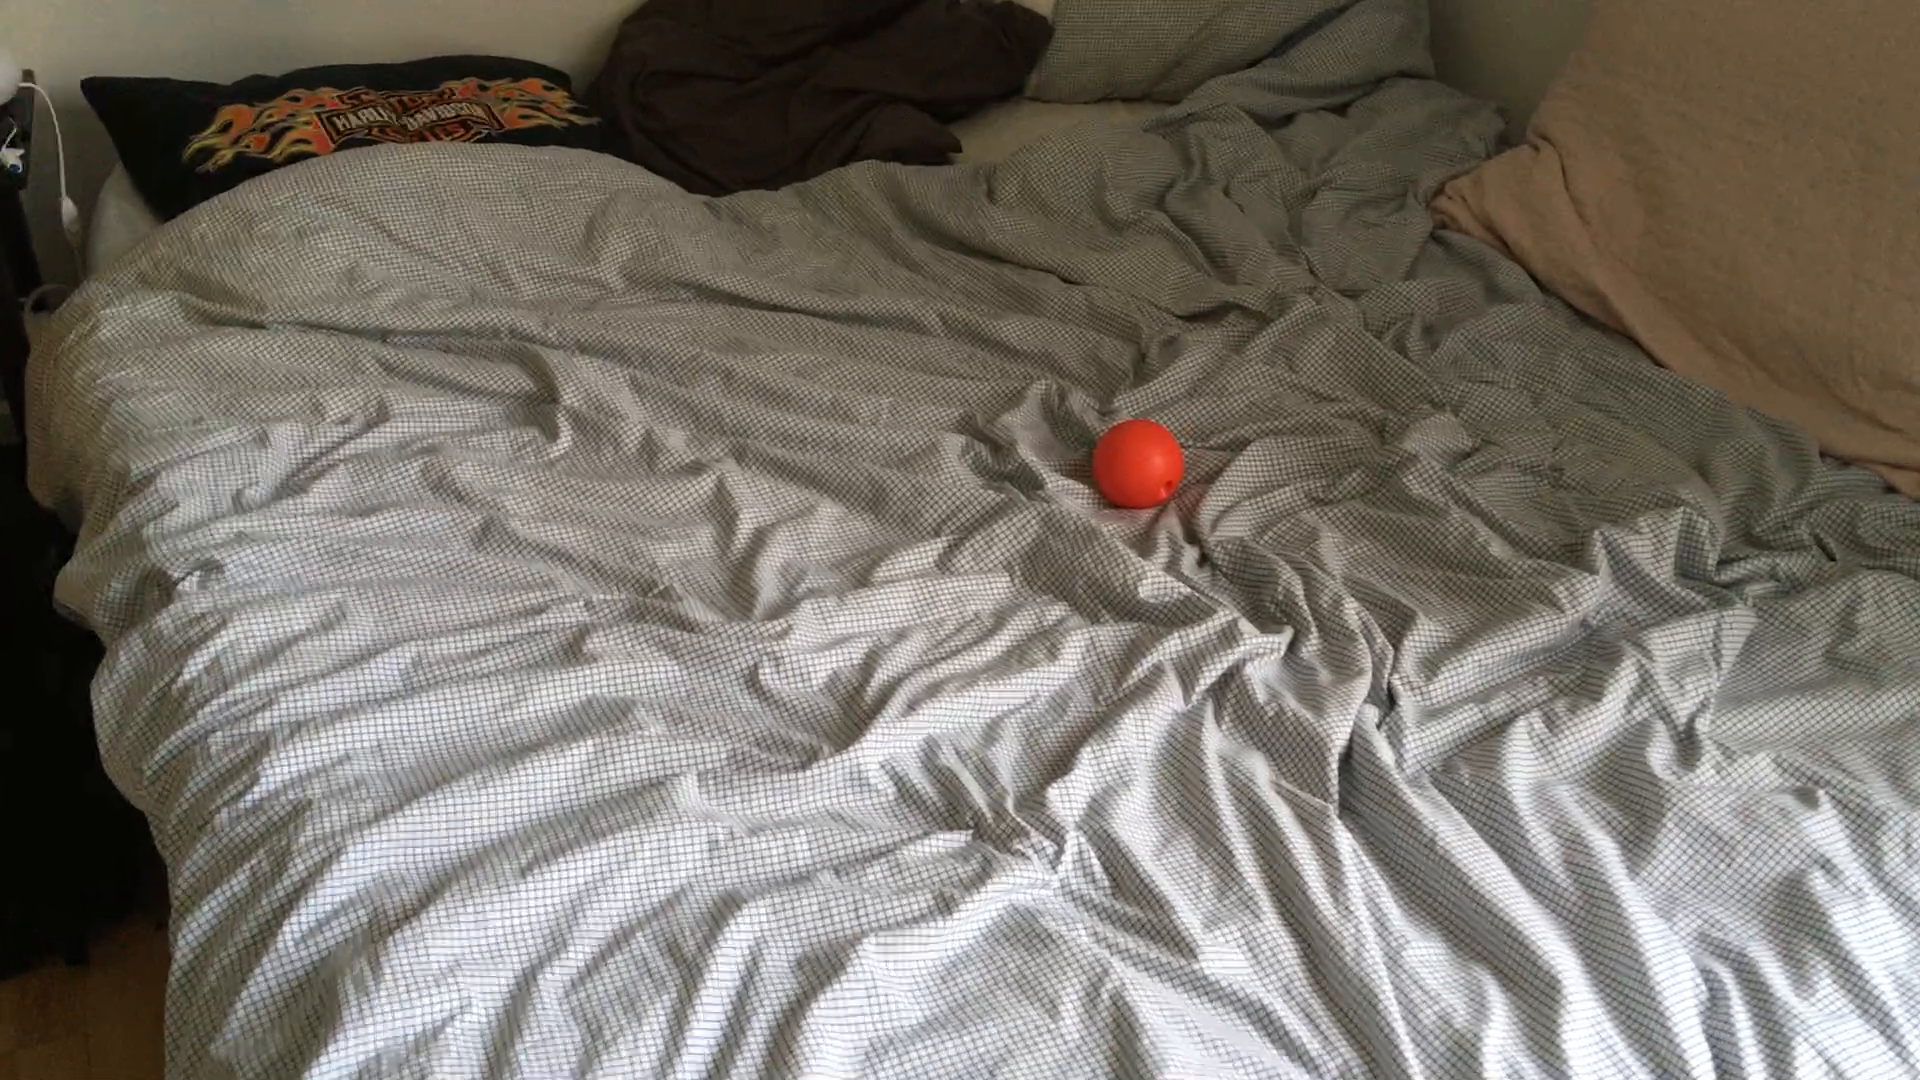Ball: (1092, 419, 1189, 508)
